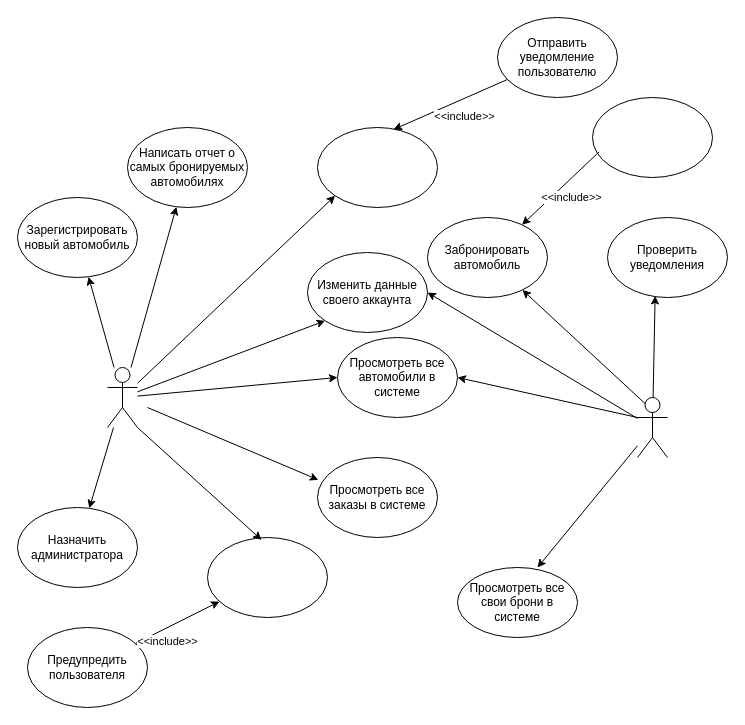
The diagram is 745 pixels wide and 725 high, and some of its shapes have lost their labels. Each missing label, with the centre of its shape:
Администратор: point 122,397
Выбрать время для получения авто: point 652,137
Клиент: point 652,427
Снять автомобиль с аренды: point 377,167
Убрать заказ из системы: point 267,577
